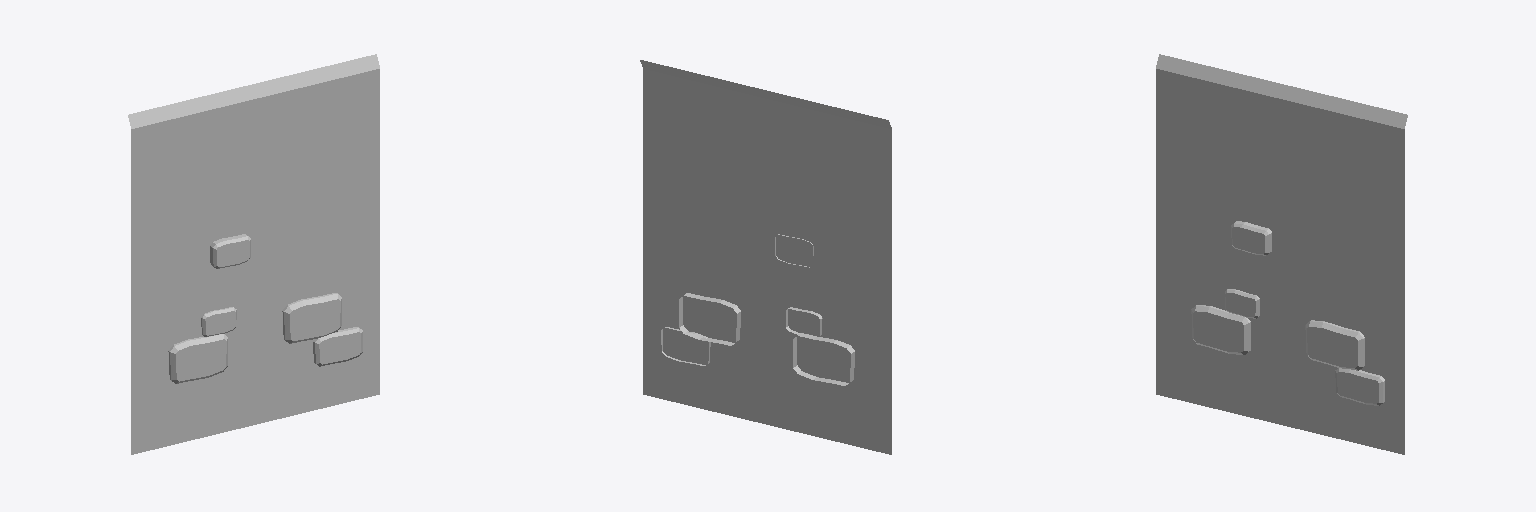
File: Dungeon_Wall_Var3.obj
The picture shows the model from 3 angles: view 1: azimuth 30°, elevation 25°; view 2: azimuth 150°, elevation 25°; view 3: azimuth 330°, elevation 25°; orthographic projection.
Visible parts, largest first — view 1: Dungeon_Wall_Var3; view 2: Dungeon_Wall_Var3; view 3: Dungeon_Wall_Var3.
Part boxes in pixels (bbox=[...]): Dungeon_Wall_Var3: bbox=[128, 54, 379, 454]; Dungeon_Wall_Var3: bbox=[640, 60, 891, 454]; Dungeon_Wall_Var3: bbox=[1156, 54, 1407, 454].
Bounding box in the file's own units: 4 × 5.18 × 0.2374.